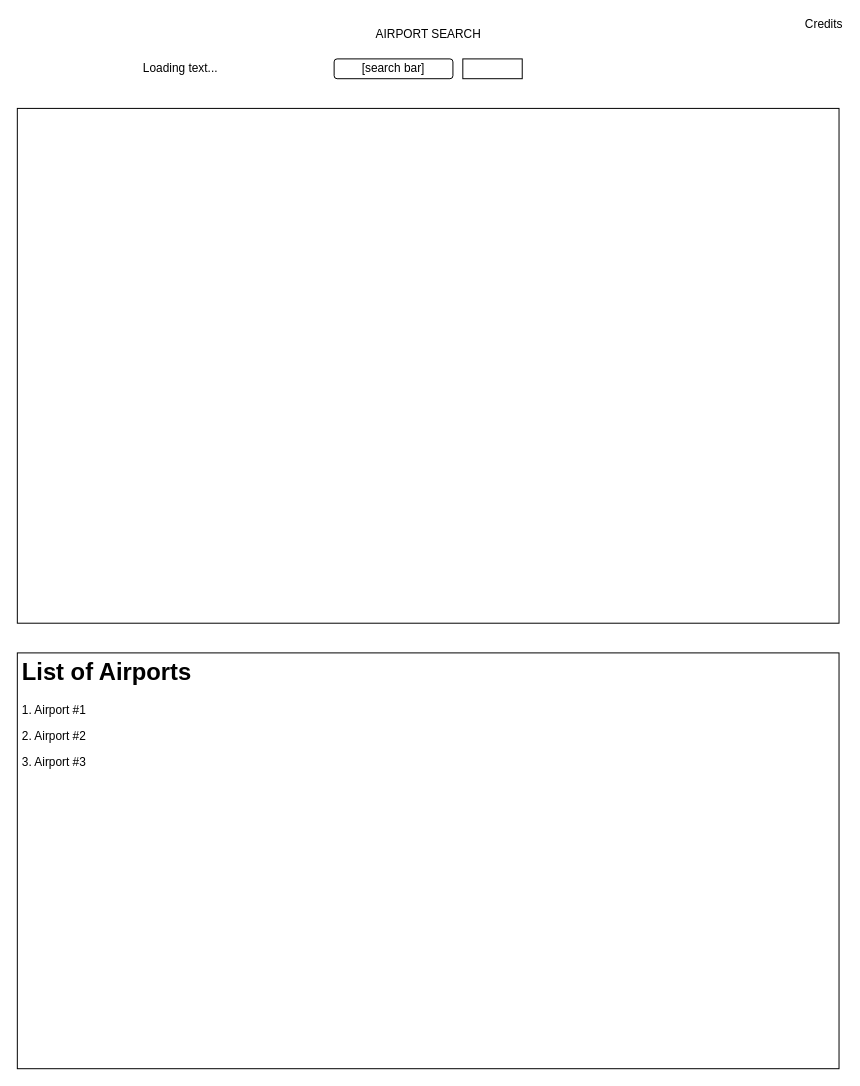
The diagram is 860 pixels wide and 1086 high, and some of its shapes have lost their labels. The centre of each missing label's shape, as x and y in pixels:
"[button]" belongs at point (492, 68).
"[map]" belongs at point (427, 365).
